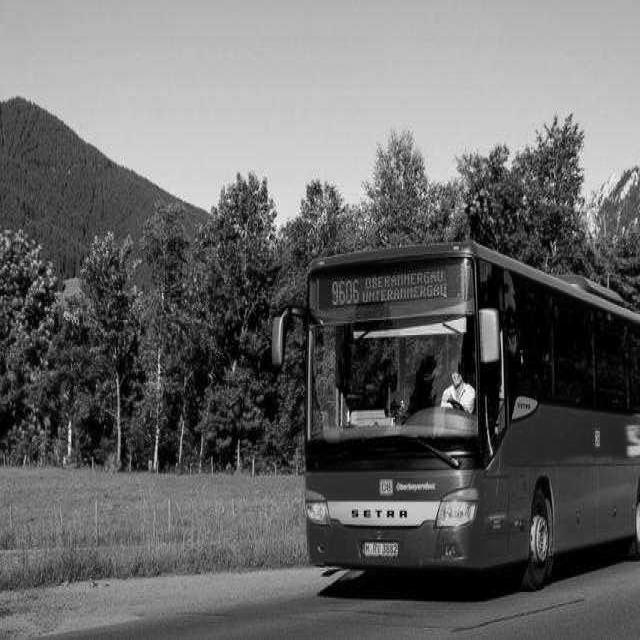Bus: (274, 240, 640, 589)
